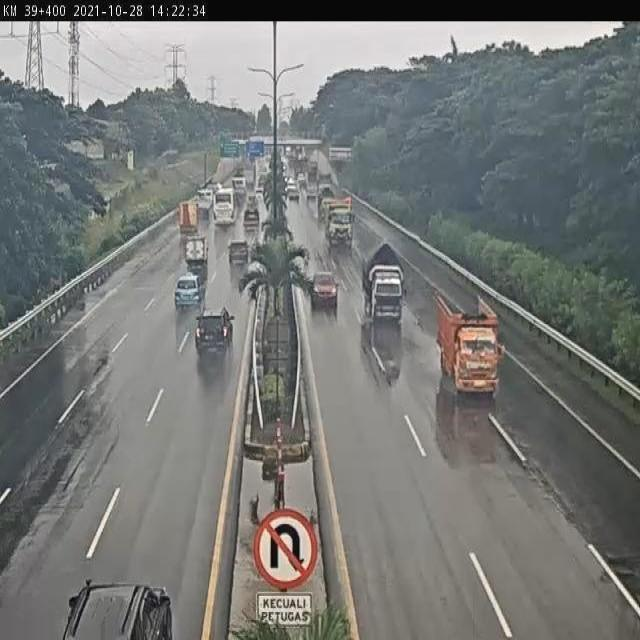Bus: (212, 188, 236, 228)
Car: (194, 306, 236, 367), (310, 271, 339, 315), (174, 274, 203, 309), (228, 239, 249, 273), (319, 183, 334, 205), (246, 190, 257, 210), (215, 182, 223, 194)
Truck: (432, 292, 503, 400), (363, 243, 405, 325), (326, 197, 355, 249), (184, 234, 209, 279), (178, 200, 200, 236), (243, 200, 260, 233), (196, 189, 214, 218), (231, 176, 247, 201)
